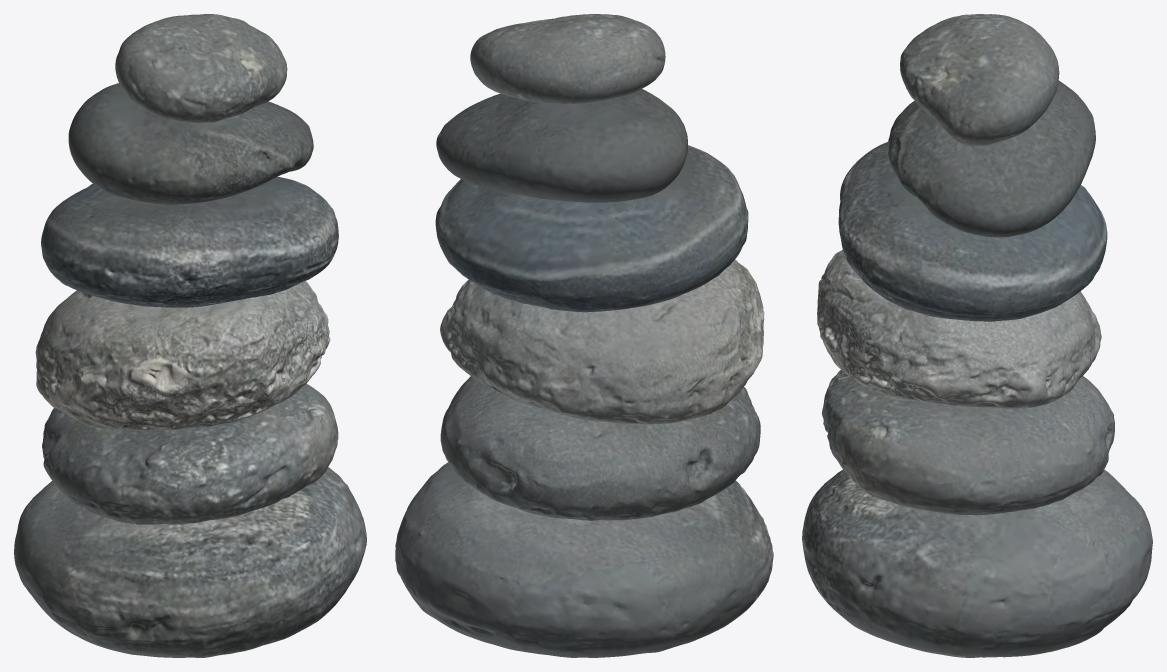
The model's file is coconut_tree.glb.
3 renders of one model, left to right at view 1: azimuth 30°, elevation 25°; view 2: azimuth 150°, elevation 25°; view 3: azimuth 270°, elevation 25°, orthographic. The views are drawn at different scales.
Size of the model in its own units: 1.08 by 1.9 by 1.04.
Materials: 1 (1 with a texture image).
